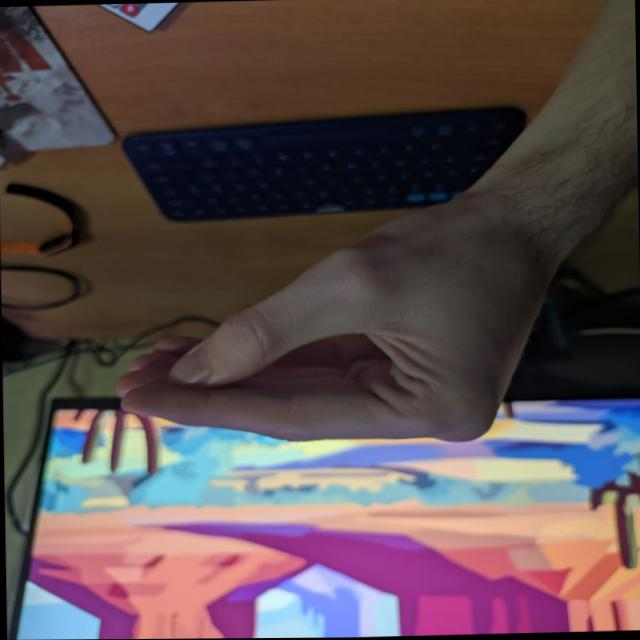zh: (106, 215, 536, 486)
